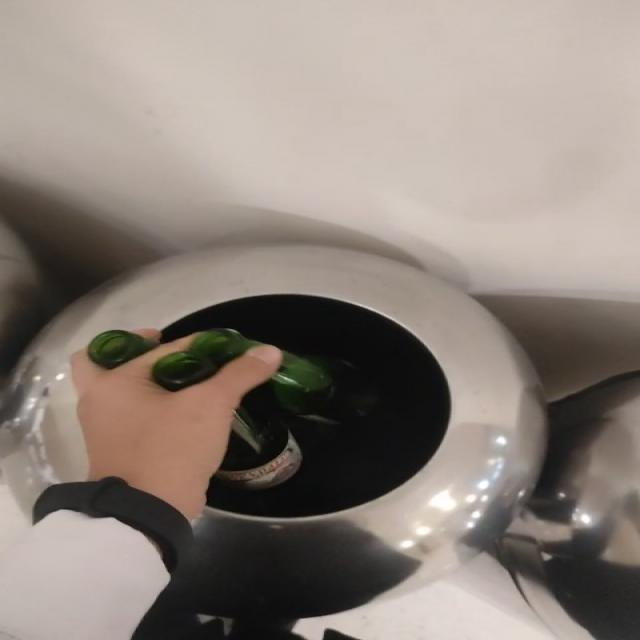glass: (263, 351, 377, 424), (216, 406, 303, 490), (152, 329, 263, 392), (87, 331, 157, 369)
